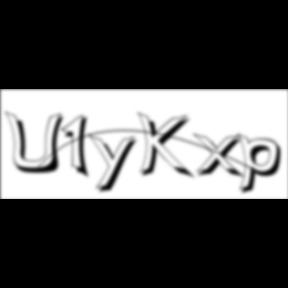1: (60, 114, 96, 182)
K: (138, 110, 197, 182)
U: (4, 110, 70, 176)
p: (238, 132, 288, 198)
x: (194, 132, 249, 181)
y: (89, 132, 143, 196)
